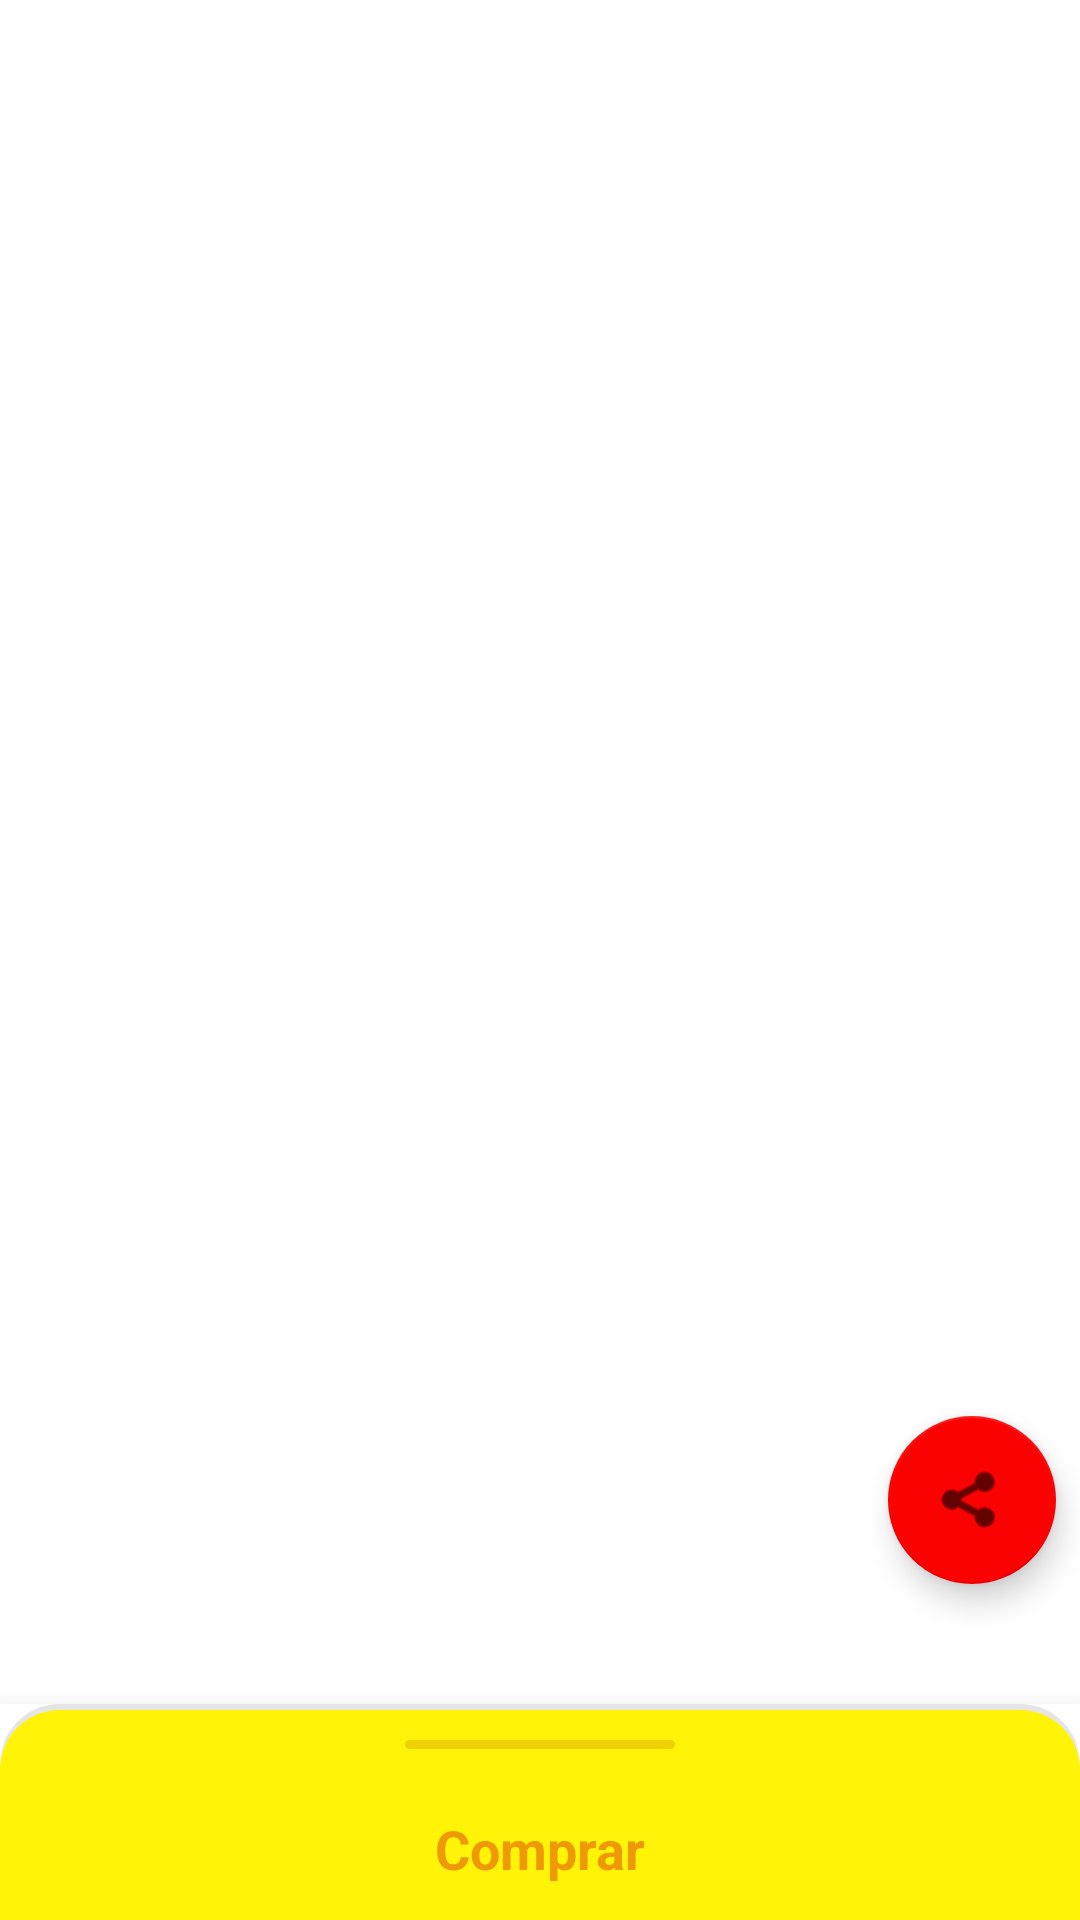

Point at icon controls on the screen. Image size 1080px×1920px, points as point (x, y).
share: point (972, 1500)
